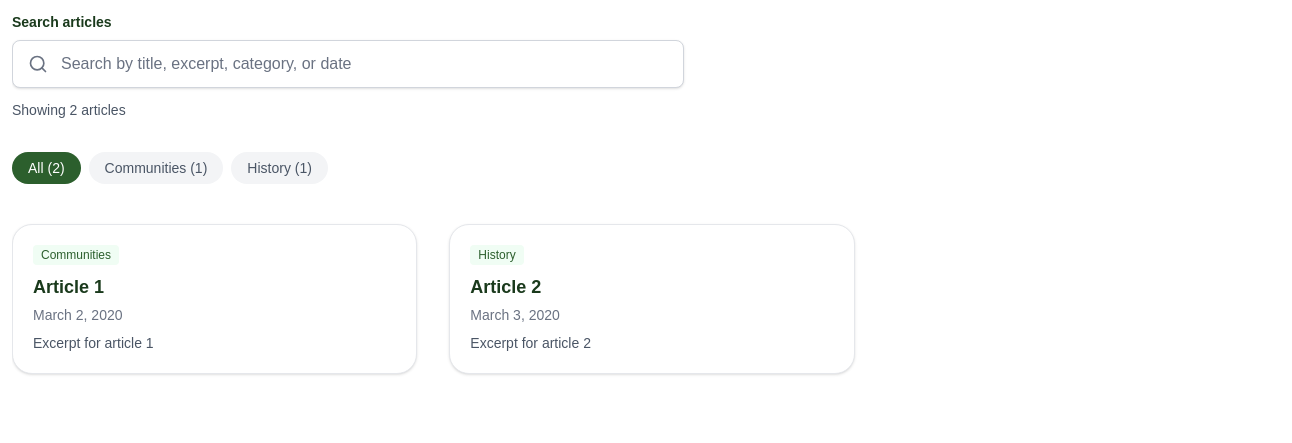
Test: ArticlesList › shows the empty state and reset restores the full list
Type "no-such-article-anywhere" into the search field labelled "Search articles" at point(348, 64), box [12,40,684,88]
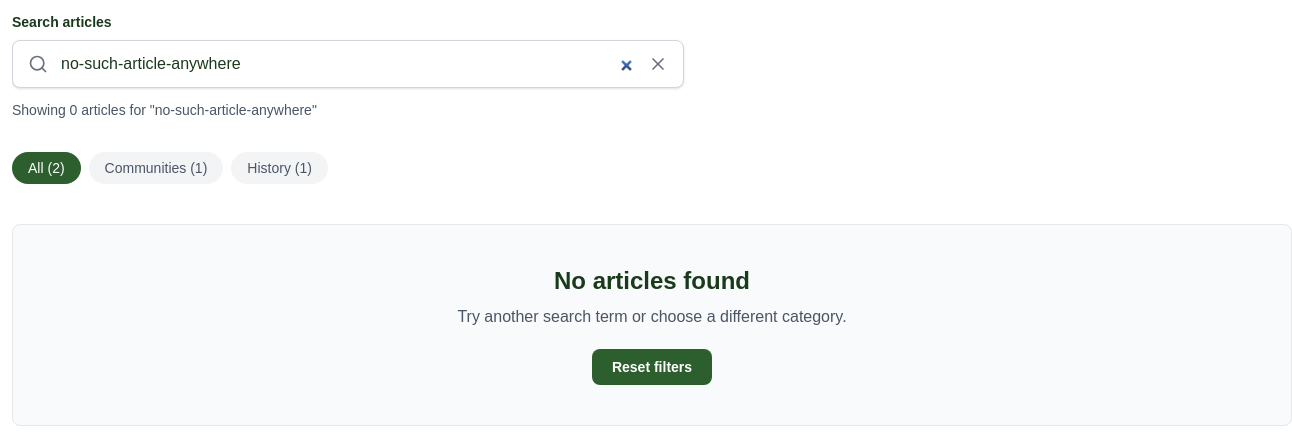
Result: the heading "No articles found" is shown at [554,267,750,294]
Click the button "Reset filters" at point(652, 367), box [592,349,712,385]
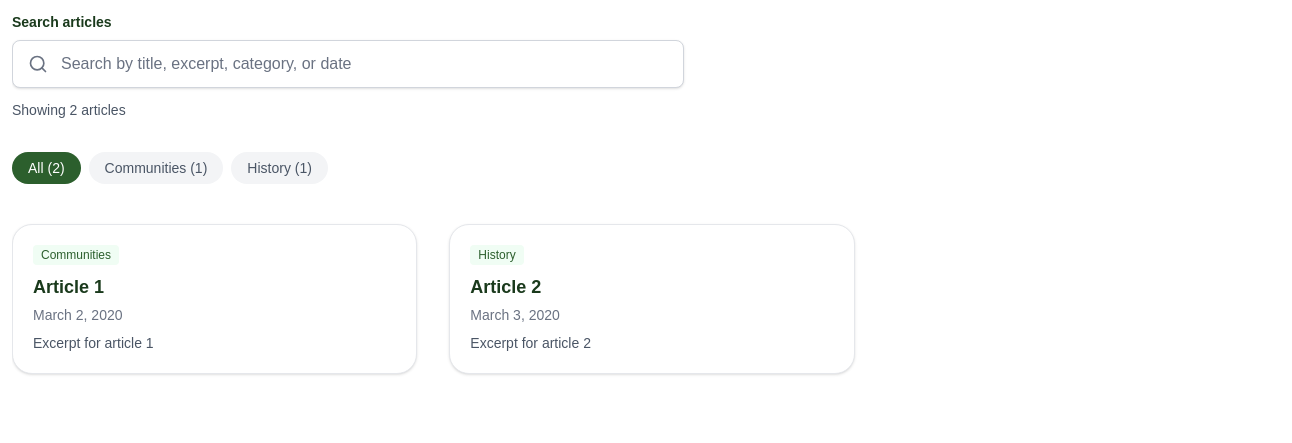
Result: the text "Showing 2 articles" is shown at [12,102,126,118]
Result: the heading "Article 1" is shown at [33,277,104,297]
